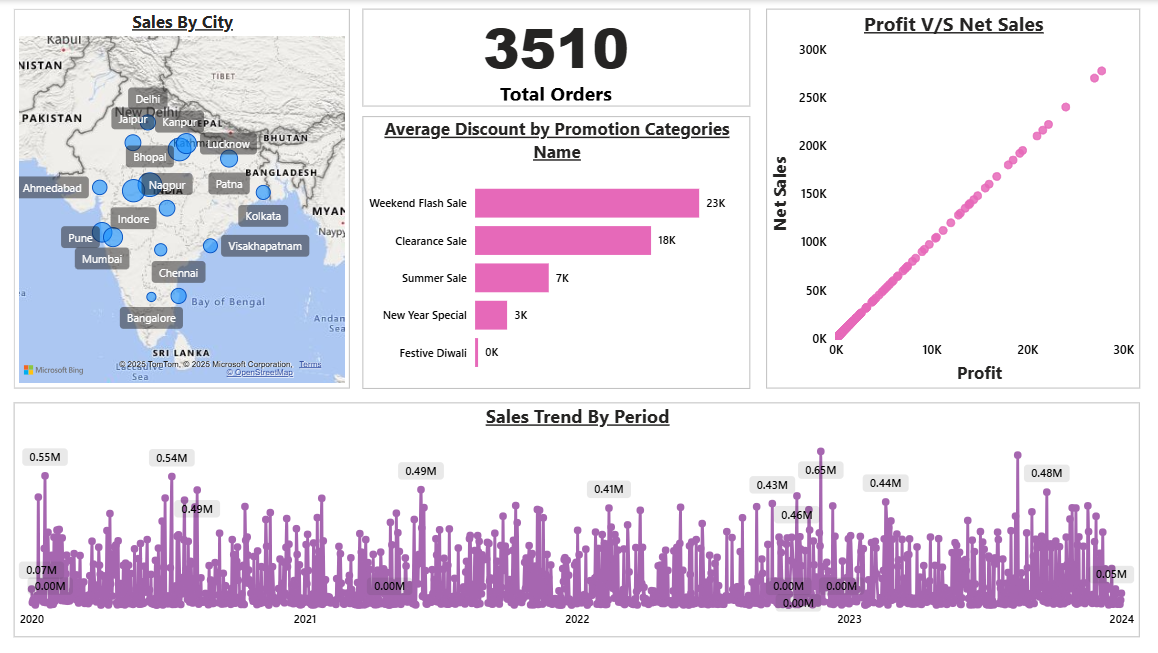

What the dashboard file says about the page in this screenshot:
{"tool":"powerbi","page":{"name":"Overview","canvas":[1280,720],"ordinal":0},"visuals":[{"type":"lineChart","title":"Sales Trend By Period","fields":{"Category":["Fact Table.Date (dd/mm/yyyy).Variation.Date Hierarchy.Year"],"Y":["Sum(Fact Table.Net Sales)"]},"box":[20.6,441.9,1236.4,258],"z":0},{"type":"scatterChart","title":"Profit  V/S Net Sales","fields":{"X":["Fact Table.Profit "],"Y":["Fact Table.Net Sales"]},"box":[846.7,9.6,410.3,417.2],"z":1000},{"type":"barChart","title":"Average Discount by Promotion Categories Name","fields":{"Y":["Avg(Fact Table.Discount)"],"Category":["Dim Promotion.Promotion Name"]},"box":[403.4,127.6,425.4,299.1],"z":2000},{"type":"map","title":"Sales By City","fields":{"Category":["Dim Customers.City"],"Size":["Sum(Fact Table.Net Sales)"]},"box":[20.6,9.6,369.1,417.2],"z":3000},{"type":"card","fields":{"Values":["CountNonNull(Fact Table.Order ID)"]},"box":[403.4,9.6,425.4,107],"z":4000}]}

Visuals, with their boxes in screenshot pixels (x1, y1, x2, y2), scaled from the page's 1280x720 canvas onto the 1158x653 screenshot:
"Sales Trend By Period" lineChart: bbox=[19, 401, 1137, 635]
"Profit  V/S Net Sales" scatterChart: bbox=[766, 9, 1137, 387]
"Average Discount by Promotion Categories Name" barChart: bbox=[365, 116, 750, 387]
"Sales By City" map: bbox=[19, 9, 353, 387]
card - CountNonNull(Fact Table.Order ID): bbox=[365, 9, 750, 106]
